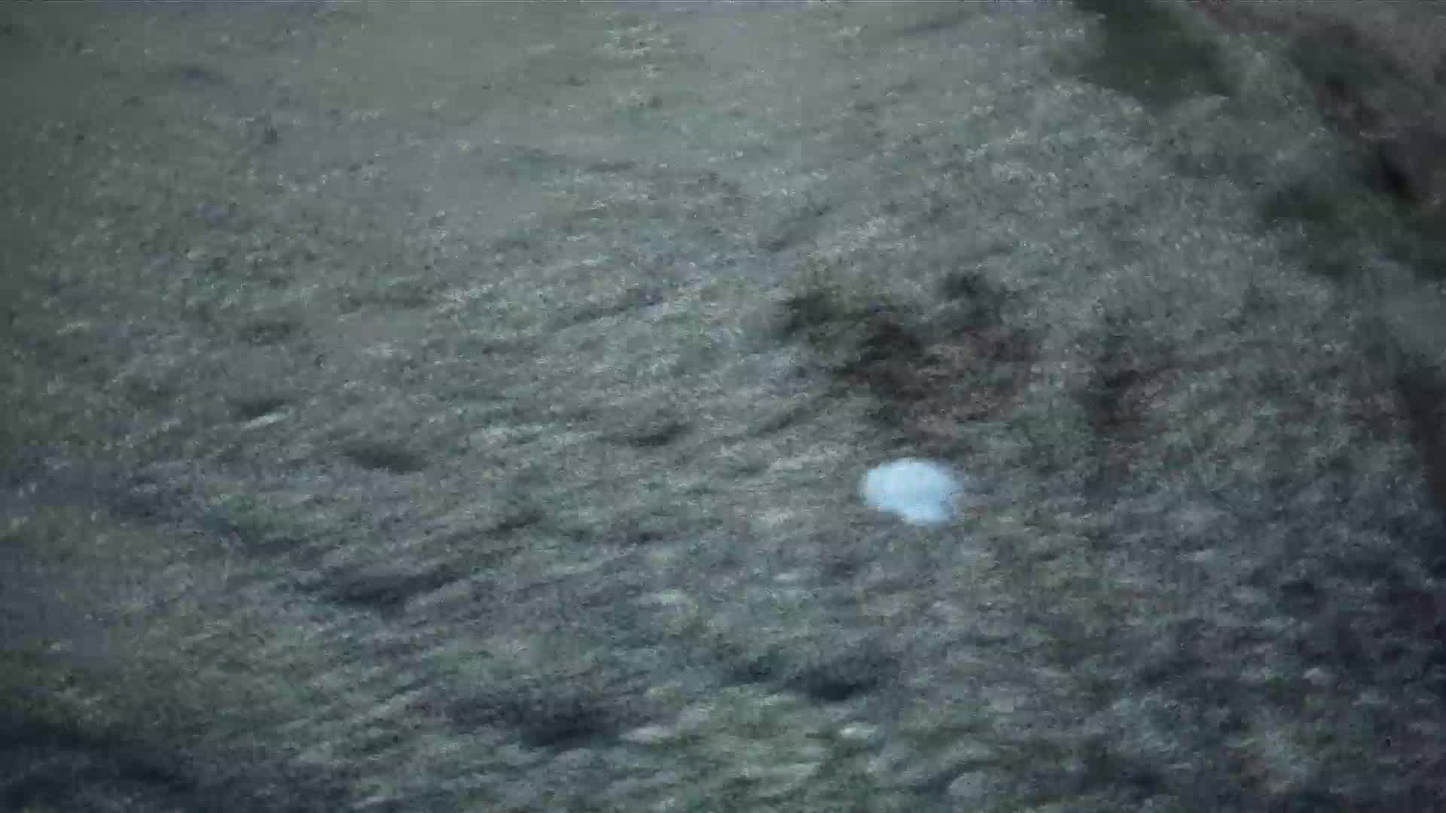Target: (850, 454, 969, 528)
